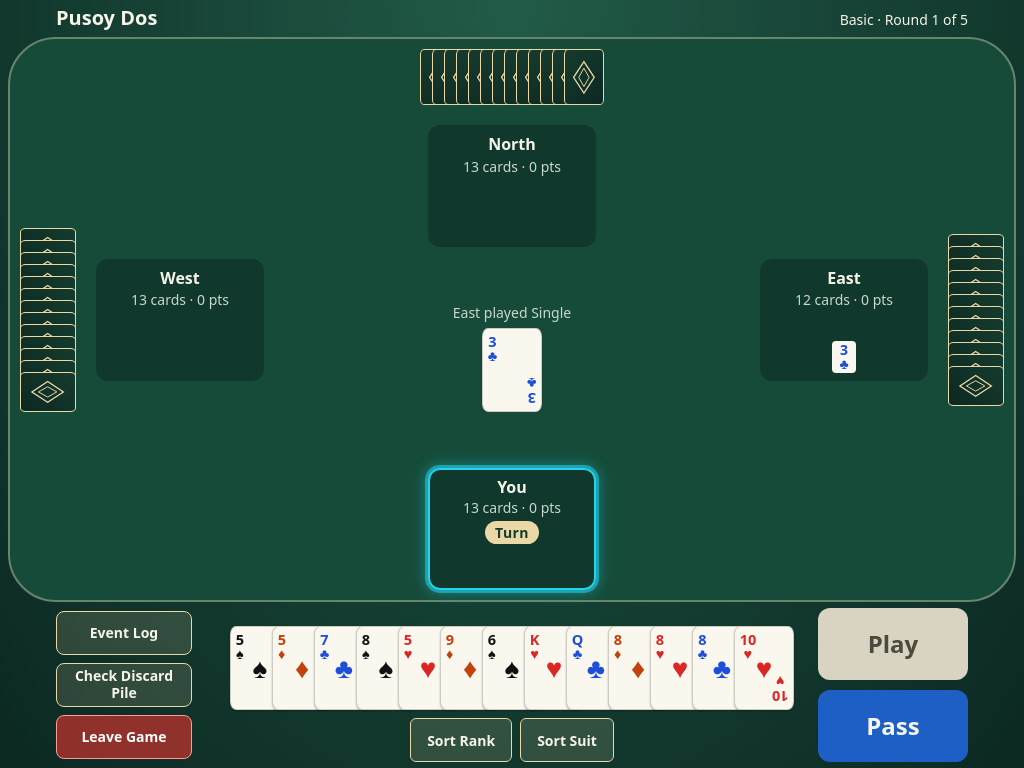
Test: Modal overlays block gameplay, including from the keyboard (review fix; ui-ux.md §9.2, §10) › makes the whole table inert while Check Discard Pile is open, and interactive again once it closes
Click the button "Check Discard Pile".
click(124, 685)  # box [56,663,192,707]
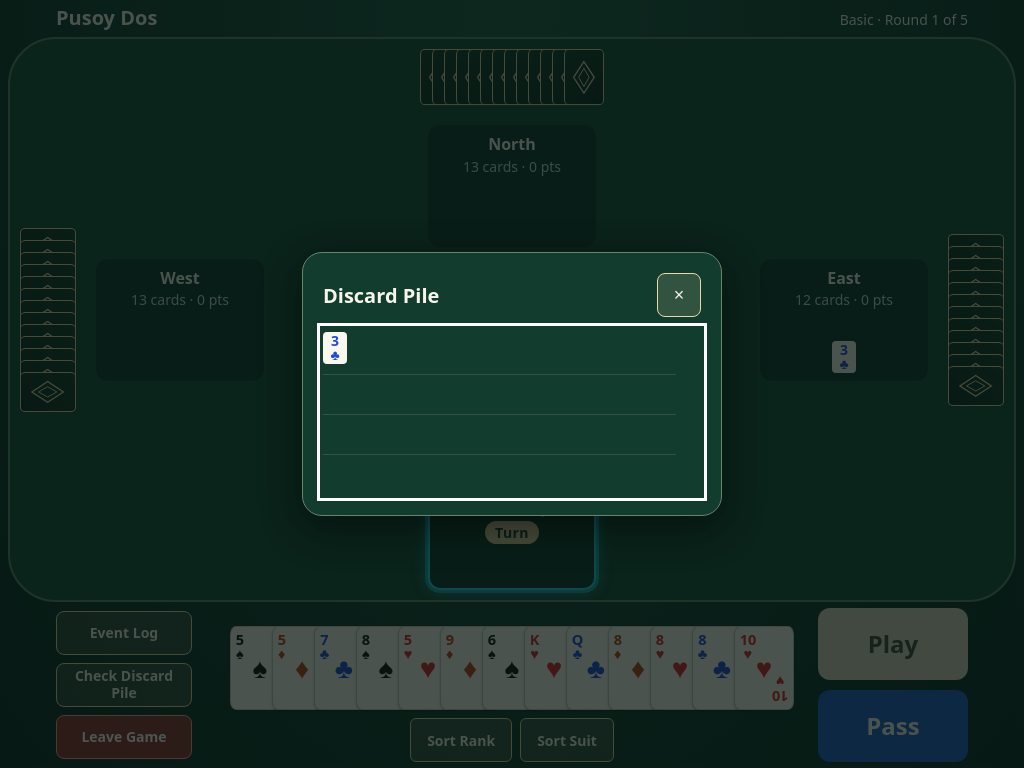
Now the dialog "Discard Pile" is shown, box [302,252,722,516]
Press Escape
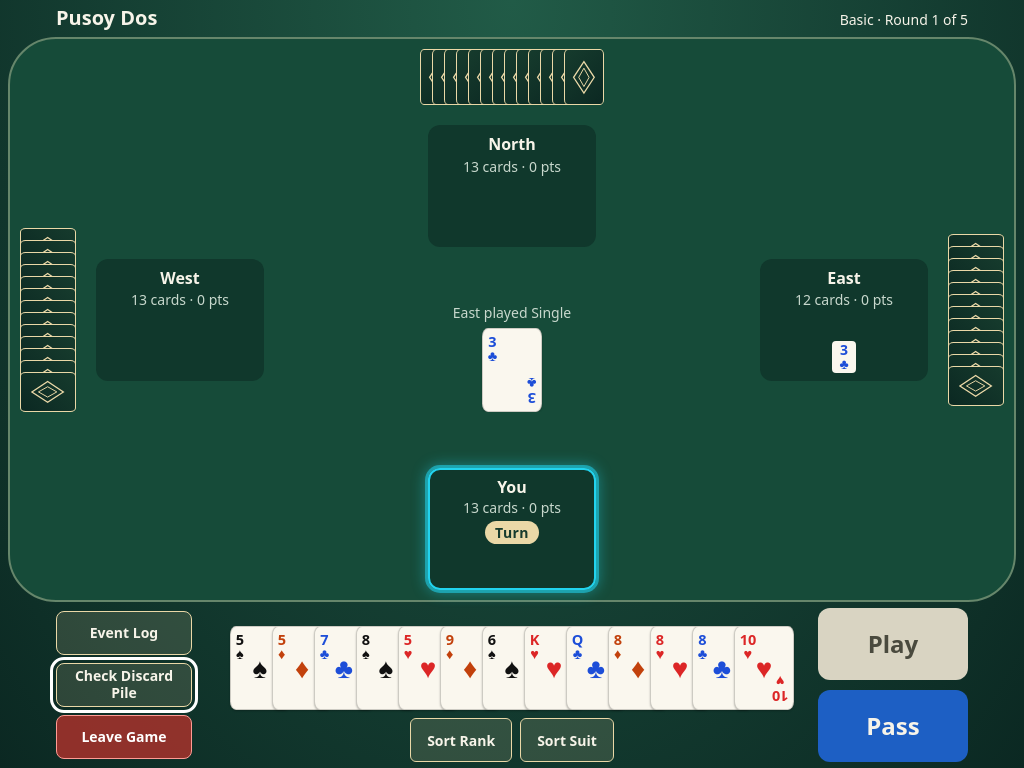
Now the dialog is gone
